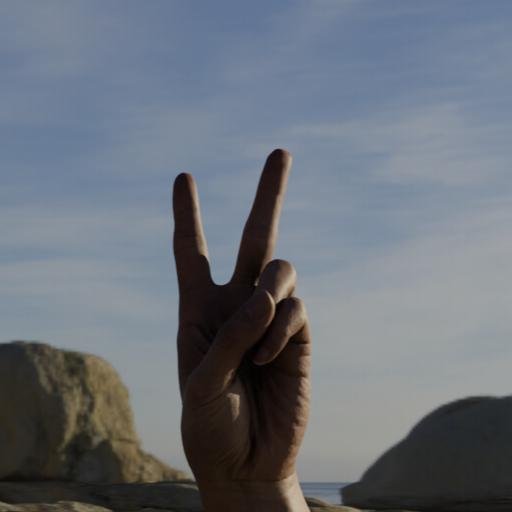V: (132, 107, 386, 512)
